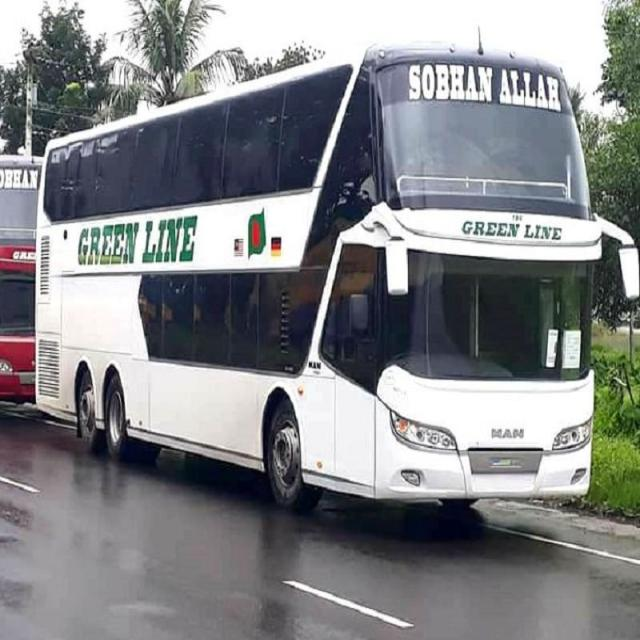Double decker: (14, 34, 640, 528)
